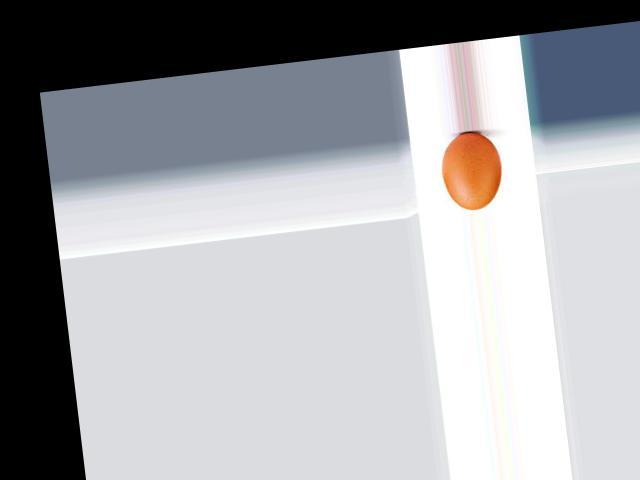egg: (438, 129, 506, 212)
